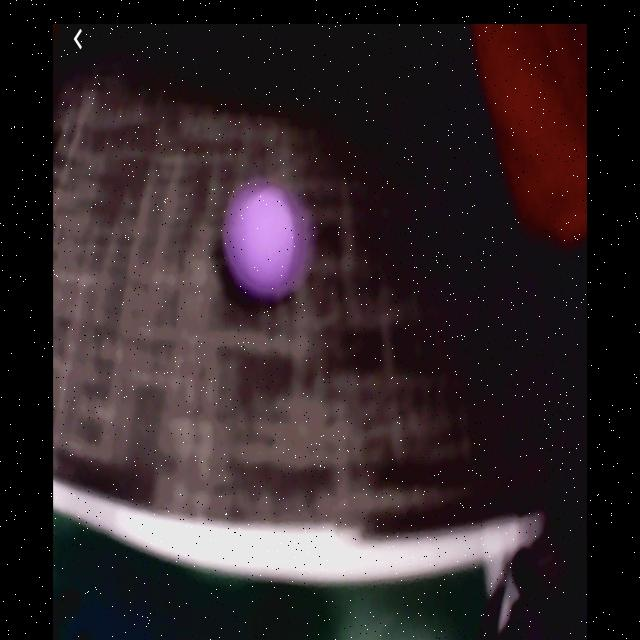ball: (226, 171, 302, 299)
